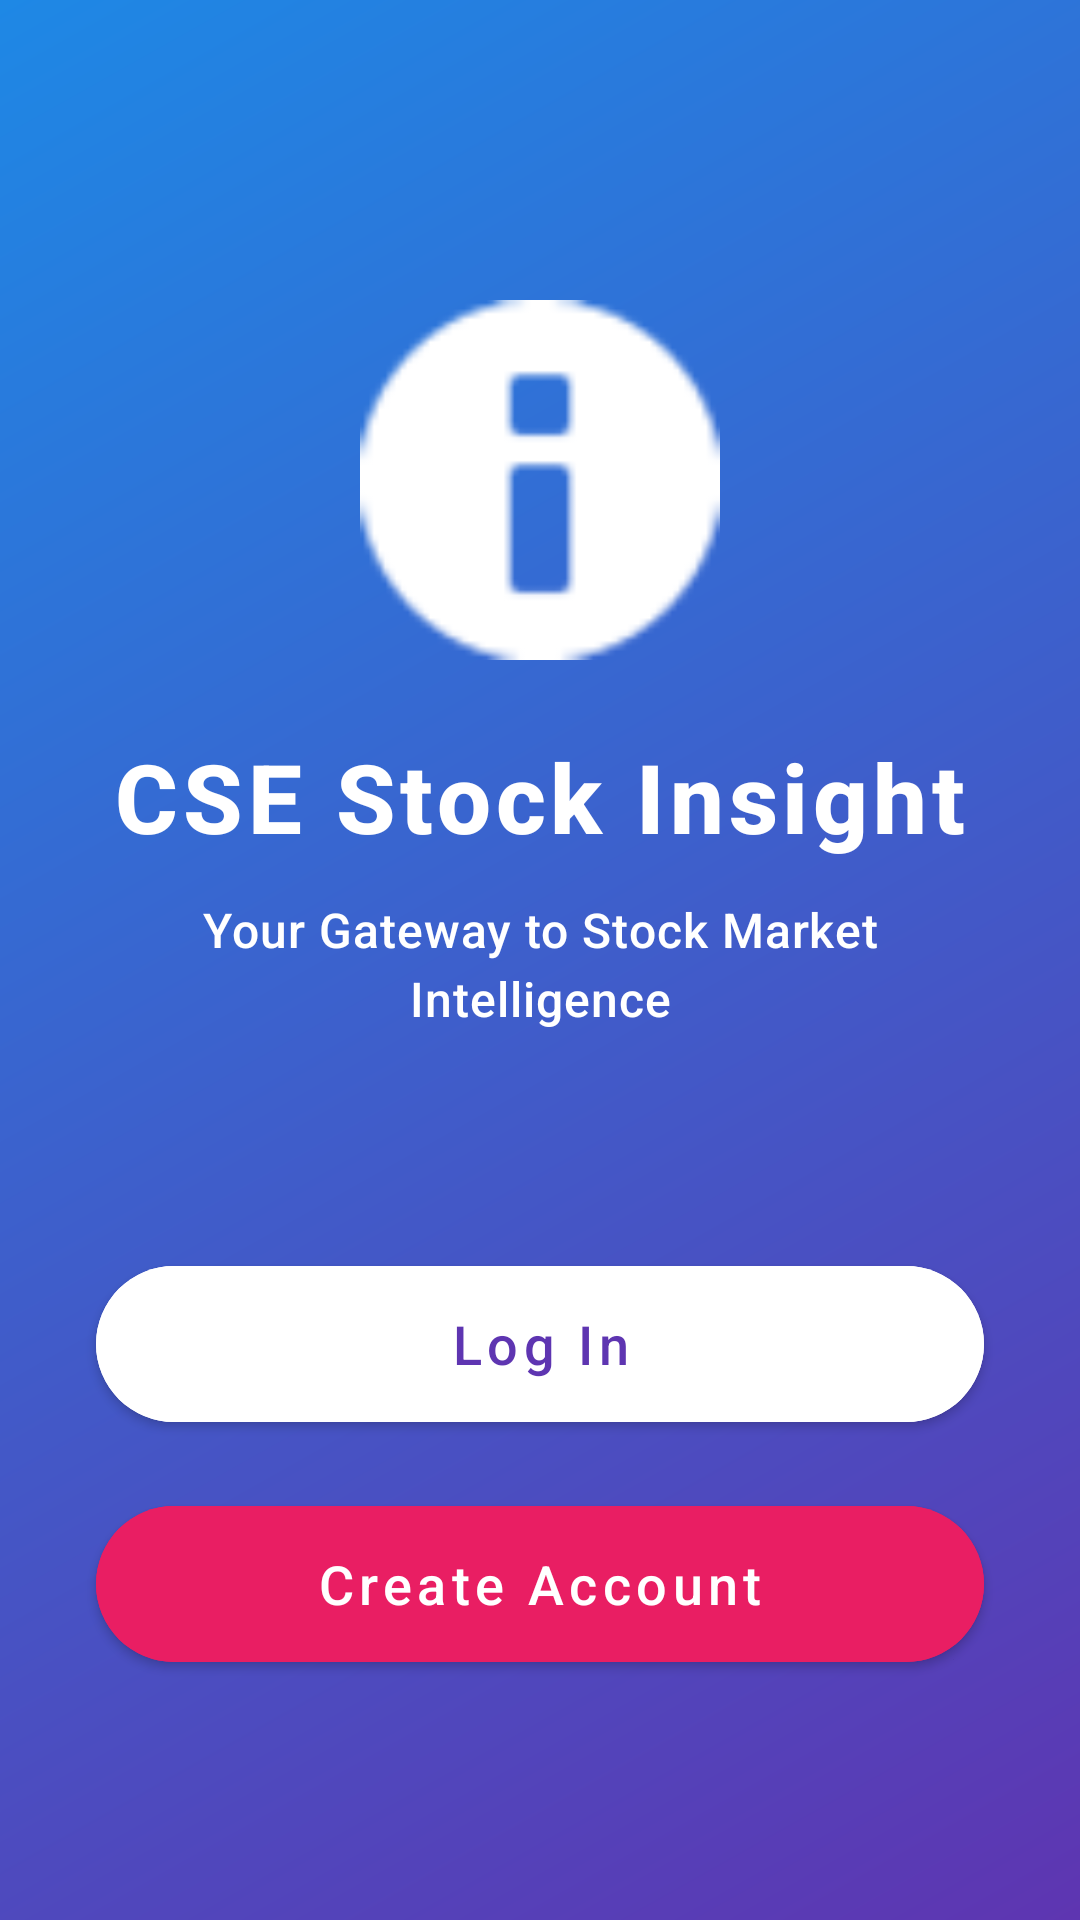

Locate icon controls on the screen. Image size 1080px x 1920px, boxes as (x1, y1, x2, y2).
info: (360, 300, 720, 660)
